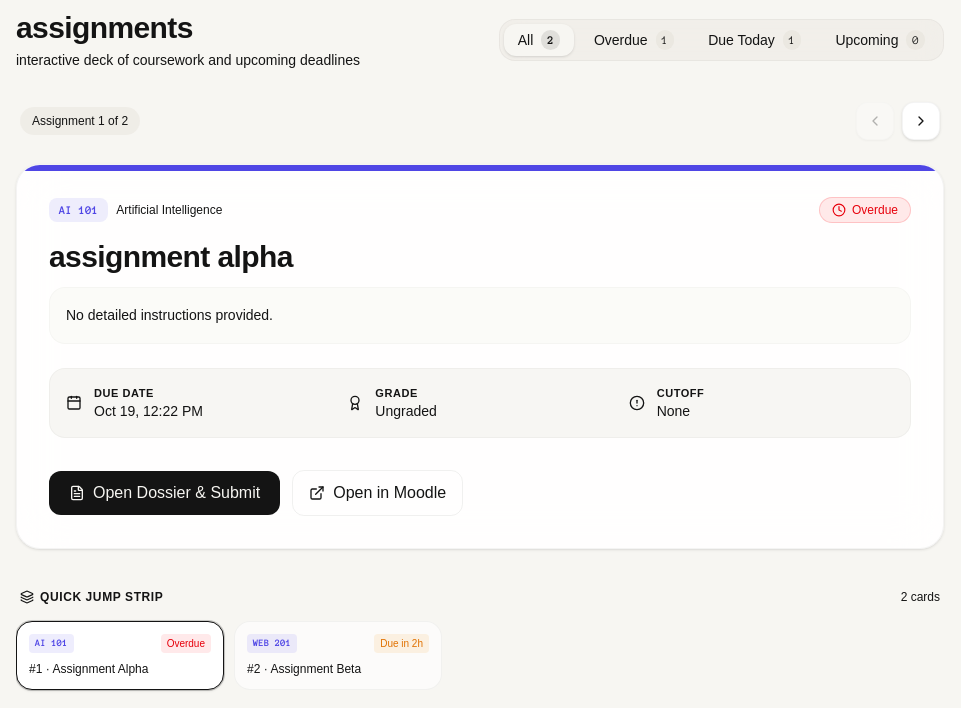
AssignmentsPage › supports jumping to assignment from quick jump strip
The width and height of the screenshot is (961, 708).
Expected: the heading "Assignment Alpha" is shown, [49, 240, 293, 273]
Click the text "#2 · Assignment Beta" at point(304, 669), box [247, 662, 361, 676]
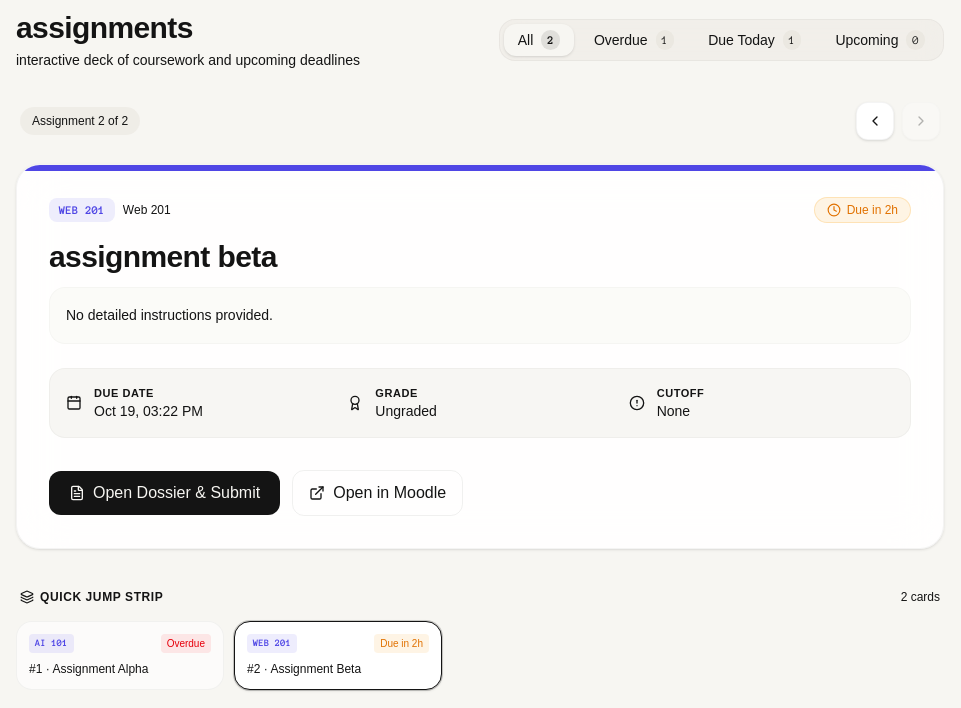
Expected: the heading "Assignment Beta" is shown, [49, 240, 277, 273]
